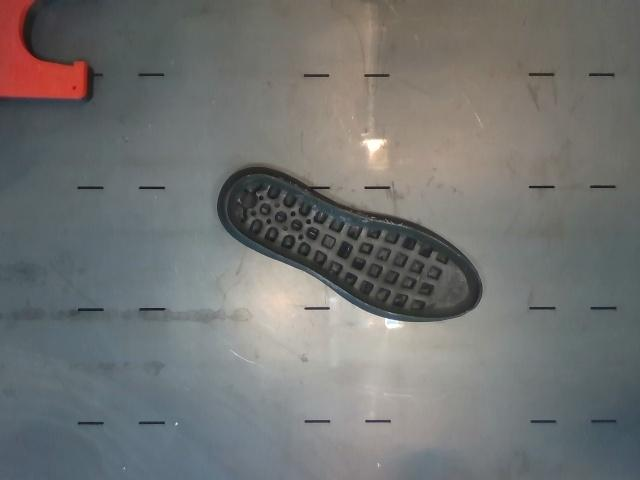shoes: (227, 174, 480, 318)
